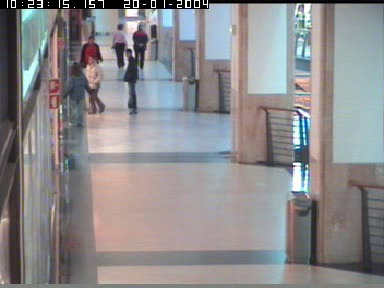person: (62, 62, 91, 126), (86, 54, 105, 115), (79, 34, 101, 84), (123, 47, 139, 115), (111, 24, 128, 68), (132, 25, 148, 69), (147, 8, 159, 39)
